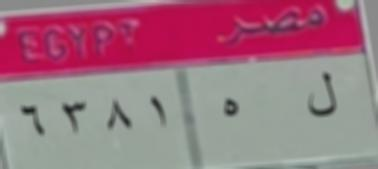1: (146, 92, 170, 134)
3: (60, 97, 88, 138)
6: (18, 102, 48, 140)
8: (100, 95, 133, 140)
haa: (216, 96, 242, 122)
laam: (304, 70, 342, 122)
